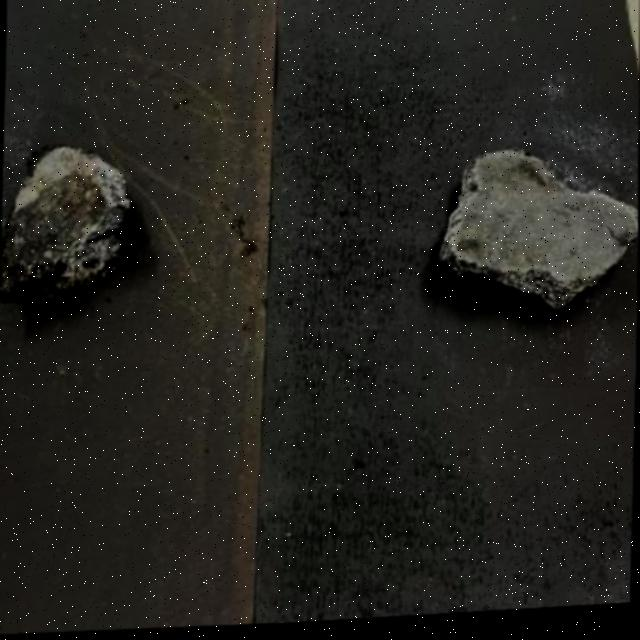Road Debris: (458, 146, 639, 299), (0, 170, 100, 295)
